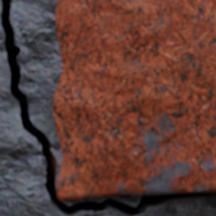brick: (53, 0, 215, 199)
crack: (0, 0, 215, 215)
